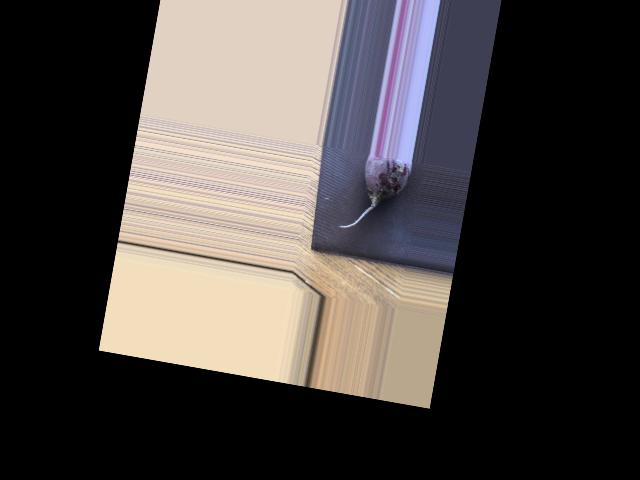beet: (339, 151, 412, 238)
